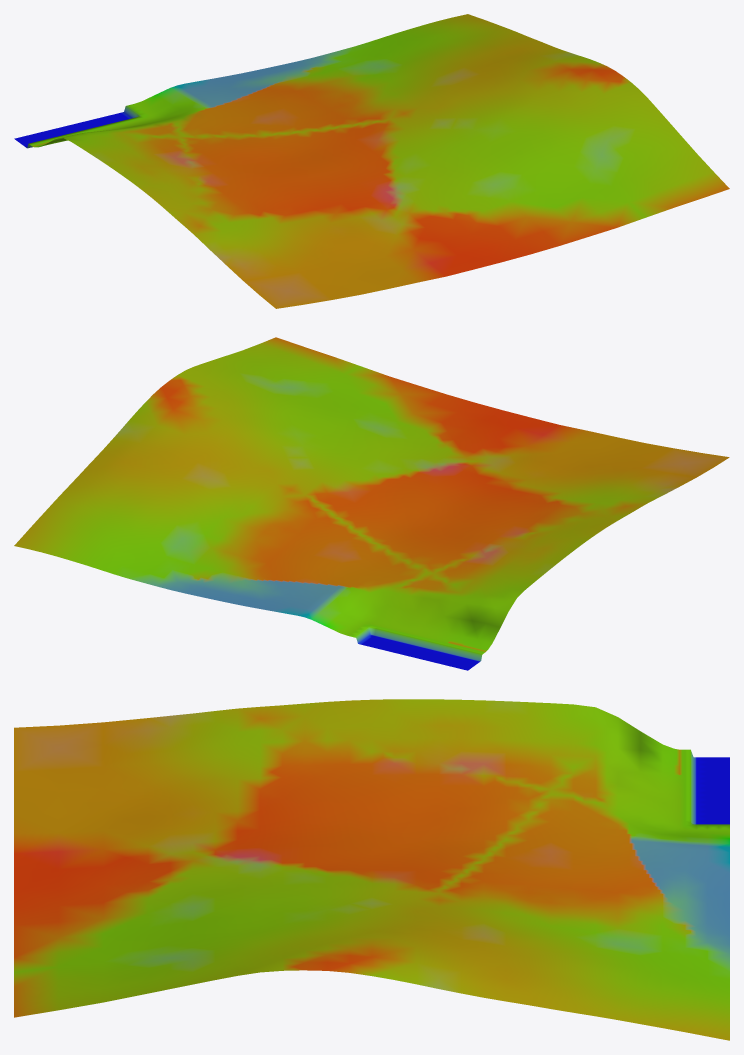
The model's file is SM_BM_BT_Terrain_2_0.glb.
3 renders of one model, top to bottom at view 1: azimuth 30°, elevation 25°; view 2: azimuth 150°, elevation 25°; view 3: azimuth 270°, elevation 25°, orthographic. The views are drawn at different scales.
Parts seen in each view (by area): view 1: SM_BM_BT_Terrain_2_0; view 2: SM_BM_BT_Terrain_2_0; view 3: SM_BM_BT_Terrain_2_0.
Boxes of the visible parts, x1=… form: SM_BM_BT_Terrain_2_0: x1=14, y1=14, x2=729, y2=308; SM_BM_BT_Terrain_2_0: x1=14, y1=337, x2=729, y2=670; SM_BM_BT_Terrain_2_0: x1=14, y1=699, x2=729, y2=1040.
Size of the model in its own units: 256 by 35.3 by 256.
